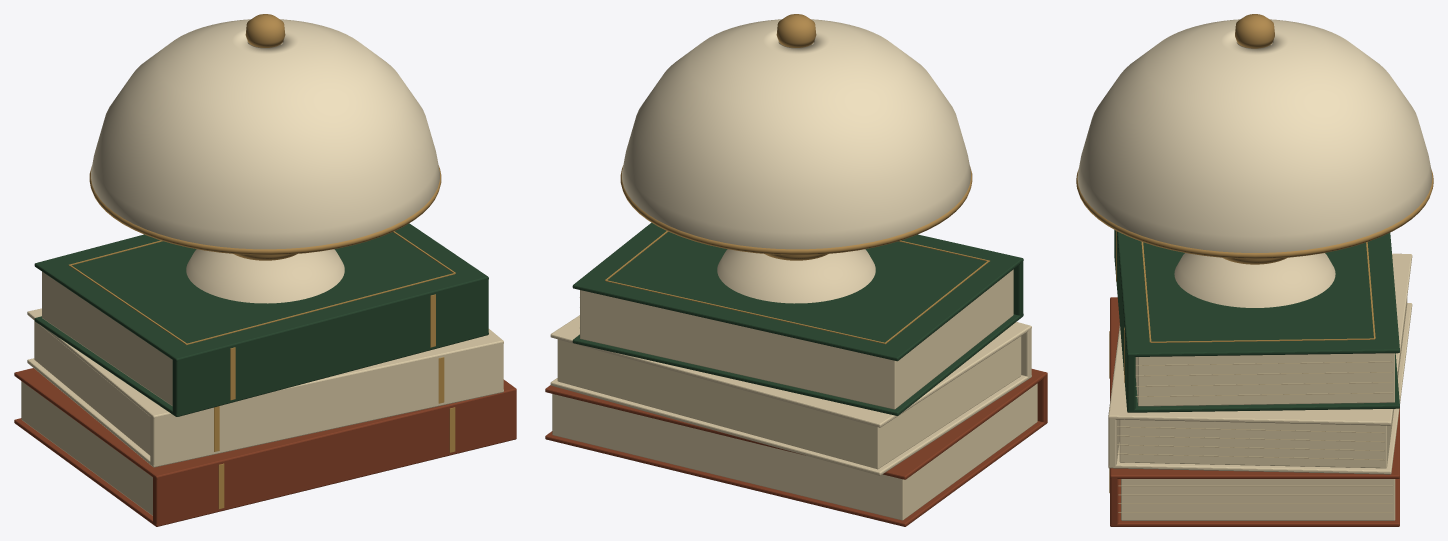
File: objetos.glb
3 views of the same model, side by side, from view 1: azimuth 30°, elevation 25°; view 2: azimuth 150°, elevation 25°; view 3: azimuth 270°, elevation 25° (orthographic).
Visible parts, largest first — view 1: Livros_malha, Luminaria_malha; view 2: Livros_malha, Luminaria_malha; view 3: Luminaria_malha, Livros_malha.
Part boxes in pixels (x1,y1,x2,y2): Livros_malha: [14, 223, 516, 526]; Luminaria_malha: [89, 14, 441, 303]; Livros_malha: [545, 222, 1047, 526]; Luminaria_malha: [620, 14, 972, 303]; Luminaria_malha: [1076, 14, 1433, 307]; Livros_malha: [1108, 230, 1412, 526].
Bounding box in the file's own units: 0.4 × 0.44 × 0.338.
